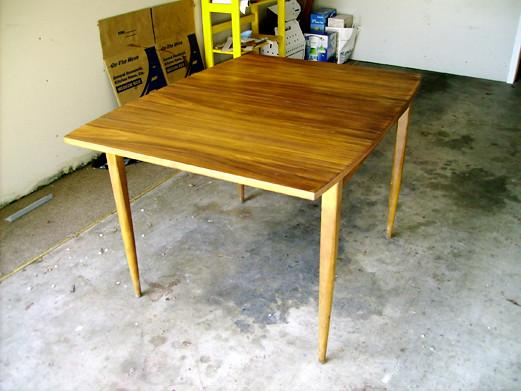table: (60, 48, 434, 370)
